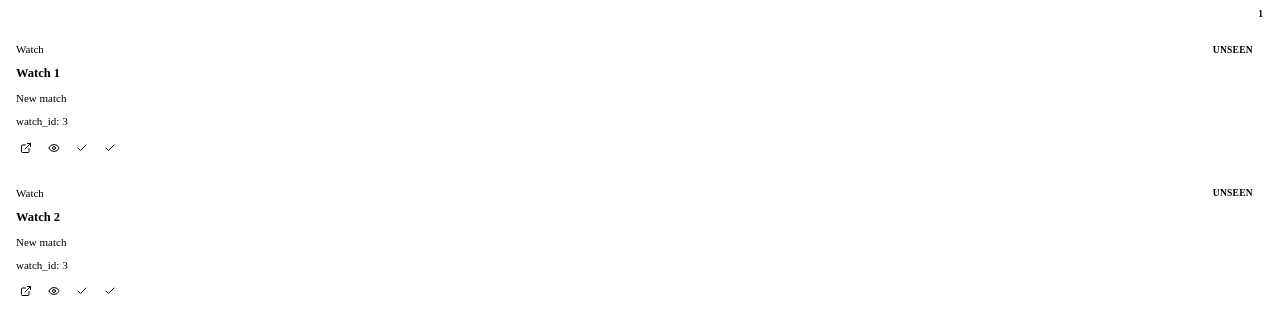
Test: keeps the second row pending when the first concurrent action completes
This screenshot has width=1278, height=318.
Click the button with test id "notification-ack" below "Watch 1": (110, 148) [100, 138, 120, 158]
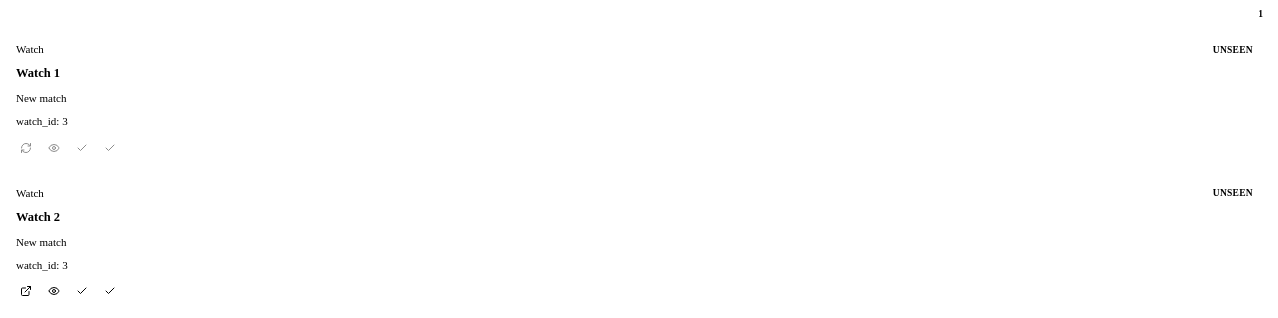
Click the button with test id "notification-ack" below "Watch 2": (110, 291) [100, 281, 120, 301]
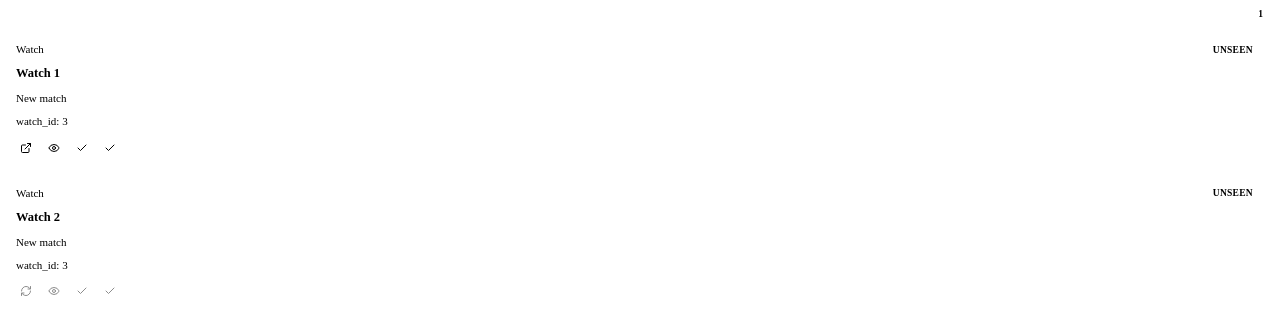
Check: the button with test id "notification-open-source" below "Watch 1" is enabled, box [16, 138, 36, 158]
Check: the button with test id "notification-open-source" below "Watch 2" is disabled, box [16, 281, 36, 301]
Click the button with test id "notification-ack" below "Watch 2": (110, 291) [100, 281, 120, 301]
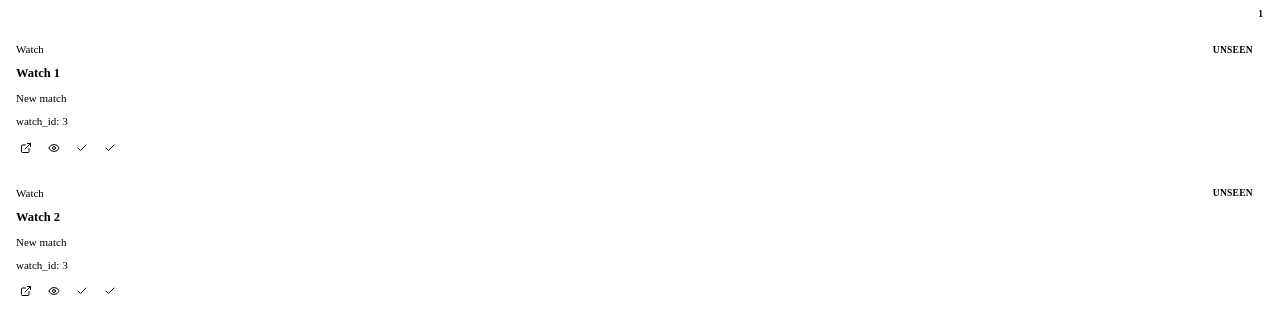
Check: the button with test id "notification-open-source" below "Watch 2" is enabled, box [16, 281, 36, 301]
